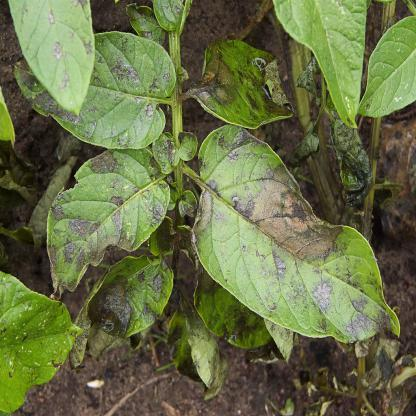Potato leaf late blight: (189, 120, 401, 354), (17, 32, 174, 150), (37, 146, 169, 286), (192, 35, 299, 134), (67, 261, 175, 354), (182, 307, 219, 387), (156, 132, 198, 166)
